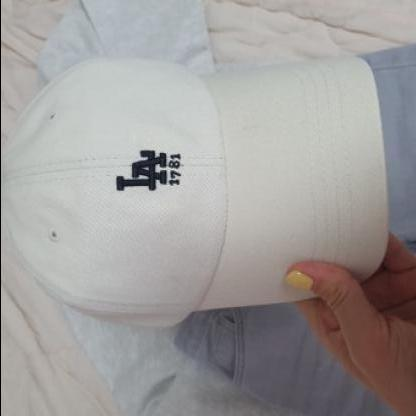cap: (0, 50, 388, 323)
